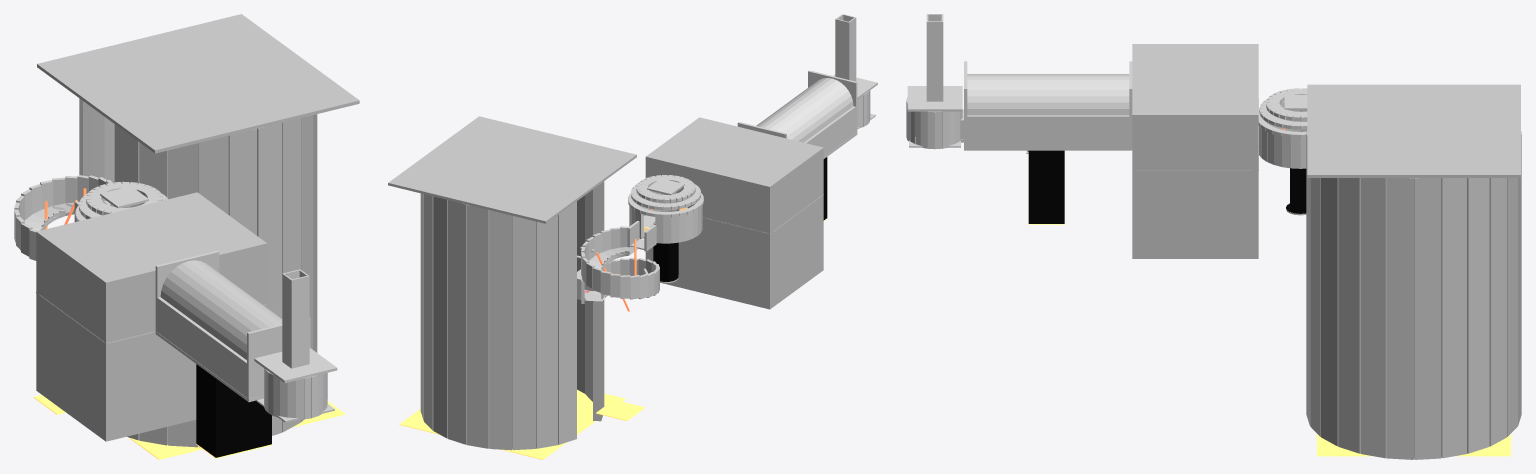
Rendered from floor03.glb.
3 views of the same model, side by side, from view 1: azimuth 30°, elevation 25°; view 2: azimuth 150°, elevation 25°; view 3: azimuth 270°, elevation 25° (orthographic). The views are drawn at different scales.
Visible parts, largest first — view 1: C6_HEART.SHARED.rock, C3_OSSUARY.SHARED.rock, C2_HALL.SHARED.stone_wall, C2_HALL.SHARED.stone_block, C2_HALL.PRESENT.fx_void, C1_LIFT.SHARED.stone_block, C5_DESCENT.SHARED.stone_wall, C1_LIFT.SHARED.stone_wall, C4_CISTERN.SHARED.stone_block, C6_HEART.SHARED.fx_ember, C5_DESCENT.SHARED.stone_block; view 2: C6_HEART.SHARED.rock, C3_OSSUARY.SHARED.rock, C5_DESCENT.SHARED.stone_wall, C2_HALL.SHARED.stone_block, C4_CISTERN.SHARED.stone_block, C2_HALL.SHARED.stone_wall, C4_CISTERN.SHARED.stone_wall, C1_LIFT.SHARED.stone_block, C6_HEART.SHARED.fx_ember, C4_CISTERN.PRESENT.fx_void, C5_DESCENT.SHARED.stone_block, C5_DESCENT.SHARED.fx_ember; view 3: C6_HEART.SHARED.rock, C3_OSSUARY.SHARED.rock, C2_HALL.SHARED.stone_block, C2_HALL.SHARED.stone_wall, C1_LIFT.SHARED.stone_block, C2_HALL.PRESENT.fx_void, C4_CISTERN.SHARED.stone_block, C1_LIFT.SHARED.stone_wall, C4_CISTERN.SHARED.stone_wall, C6_HEART.SHARED.fx_ember, C4_CISTERN.PRESENT.fx_void.
Boxes of the visible parts, box(x1,y1,x2,y2) form: C6_HEART.SHARED.rock: box(37, 14, 359, 447); C3_OSSUARY.SHARED.rock: box(36, 192, 267, 441); C2_HALL.SHARED.stone_wall: box(155, 250, 310, 402); C2_HALL.SHARED.stone_block: box(156, 260, 282, 400); C2_HALL.PRESENT.fx_void: box(196, 364, 271, 457); C1_LIFT.SHARED.stone_block: box(254, 269, 337, 382); C5_DESCENT.SHARED.stone_wall: box(14, 175, 112, 260); C1_LIFT.SHARED.stone_wall: box(264, 368, 327, 419); C4_CISTERN.SHARED.stone_block: box(75, 181, 167, 221); C6_HEART.SHARED.fx_ember: box(128, 401, 344, 459); C5_DESCENT.SHARED.stone_block: box(25, 203, 74, 230); C6_HEART.SHARED.rock: box(388, 116, 636, 450); C3_OSSUARY.SHARED.rock: box(645, 117, 823, 309); C5_DESCENT.SHARED.stone_wall: box(581, 221, 659, 303); C2_HALL.SHARED.stone_block: box(756, 78, 856, 157); C4_CISTERN.SHARED.stone_block: box(628, 175, 703, 237); C2_HALL.SHARED.stone_wall: box(737, 70, 857, 158); C4_CISTERN.SHARED.stone_wall: box(629, 191, 702, 243); C1_LIFT.SHARED.stone_block: box(833, 14, 877, 99); C6_HEART.SHARED.fx_ember: box(399, 389, 625, 459); C4_CISTERN.PRESENT.fx_void: box(653, 242, 678, 281); C5_DESCENT.SHARED.stone_block: box(585, 238, 656, 301); C5_DESCENT.SHARED.fx_ember: box(596, 400, 644, 420); C6_HEART.SHARED.rock: box(1306, 84, 1521, 459); C3_OSSUARY.SHARED.rock: box(1132, 44, 1258, 258); C2_HALL.SHARED.stone_block: box(964, 74, 1132, 148); C2_HALL.SHARED.stone_wall: box(964, 61, 1132, 150); C1_LIFT.SHARED.stone_block: box(907, 14, 963, 140); C2_HALL.PRESENT.fx_void: box(1028, 150, 1064, 223); C4_CISTERN.SHARED.stone_block: box(1258, 88, 1307, 138); C1_LIFT.SHARED.stone_wall: box(906, 97, 963, 149); C4_CISTERN.SHARED.stone_wall: box(1259, 105, 1307, 168); C6_HEART.SHARED.fx_ember: box(1317, 434, 1510, 456); C4_CISTERN.PRESENT.fx_void: box(1286, 168, 1306, 213).
Size of the model in its own units: 113 by 110 by 190.
